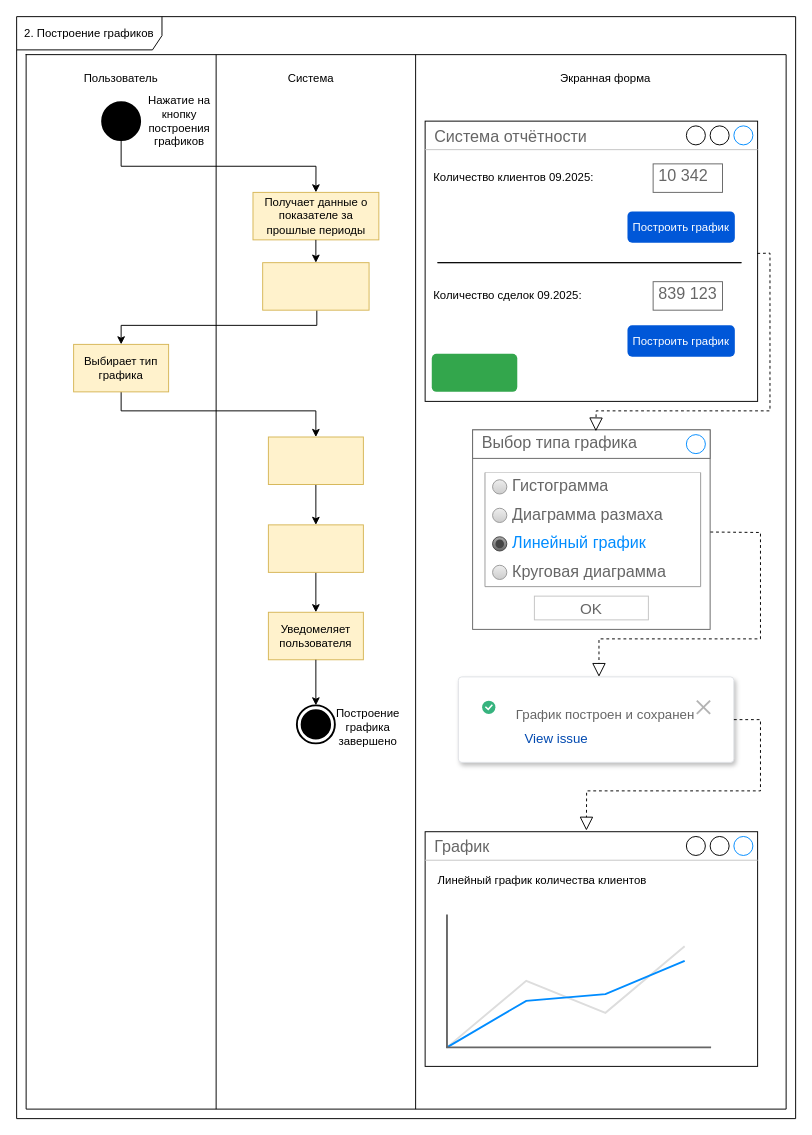
Image size: 812x1135. Some labels were removed from this diagram. Here are the shapes that lost their labels. From the top down, the centre of each, then its label:
At point (315, 286): "Запрашивает тип графика".
At point (474, 372): "Сохранить".
At point (315, 460): "Строит график".
At point (315, 548): "Сохраняет график".
